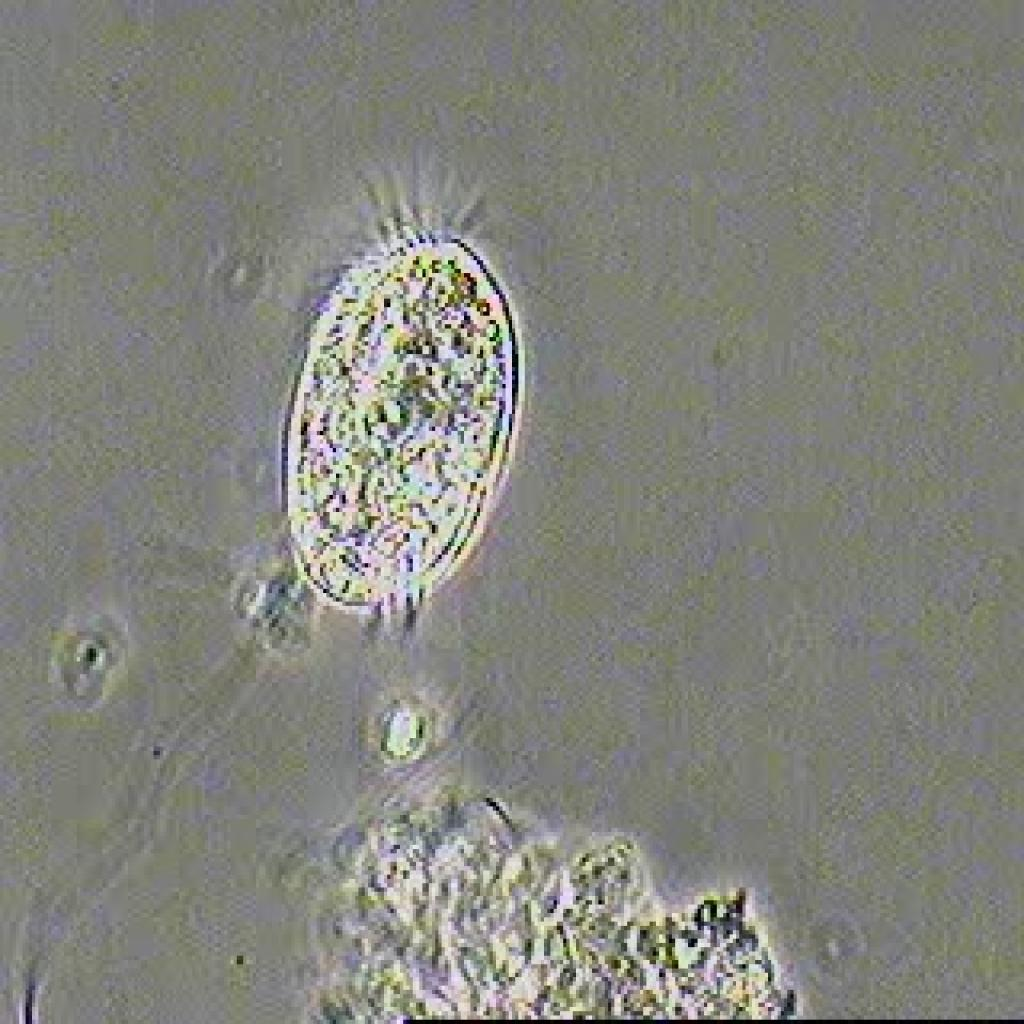Chilodonella: (206, 139, 558, 676)
